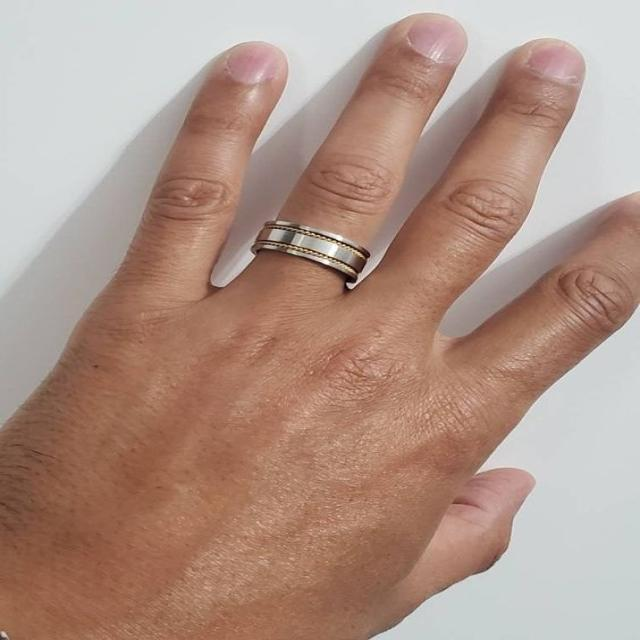Fingernail: (410, 15, 469, 65), (531, 43, 584, 83), (229, 44, 279, 84)
